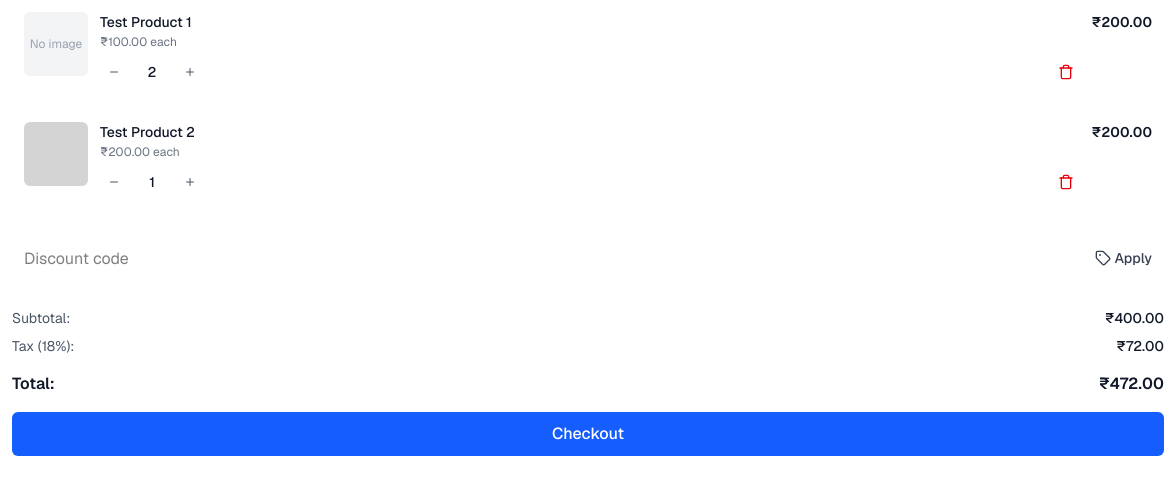
Test: ShoppingCart › Discount Code Application › should display error message for invalid discount code
Type "INVALID" into the field with placeholder "Discount code" at {"x": 543, "y": 258}, box top-left (12, 240), bottom-right (1074, 276)
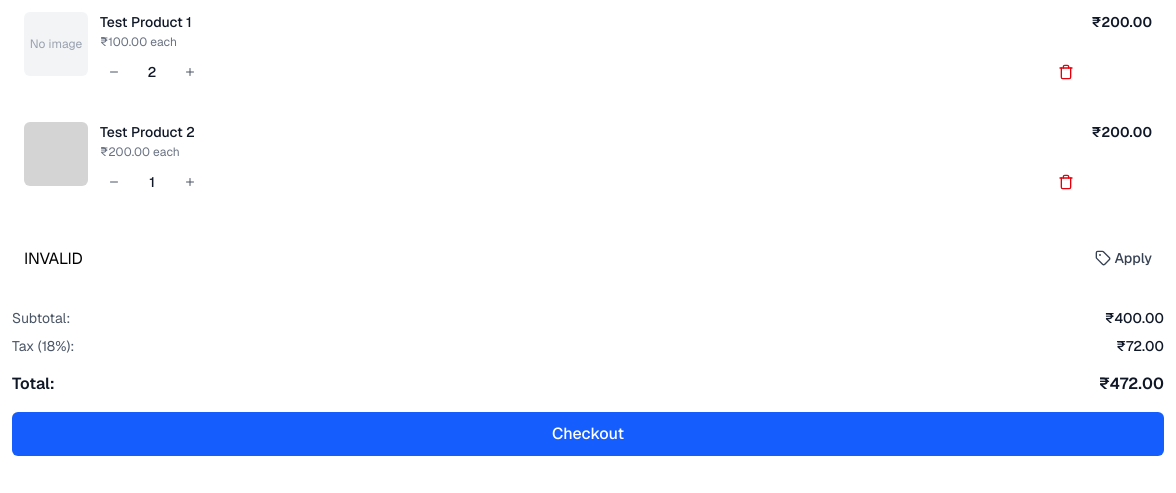
Click the button with aria-label "Apply discount code" at {"x": 1123, "y": 258}, box top-left (1082, 240), bottom-right (1164, 276)
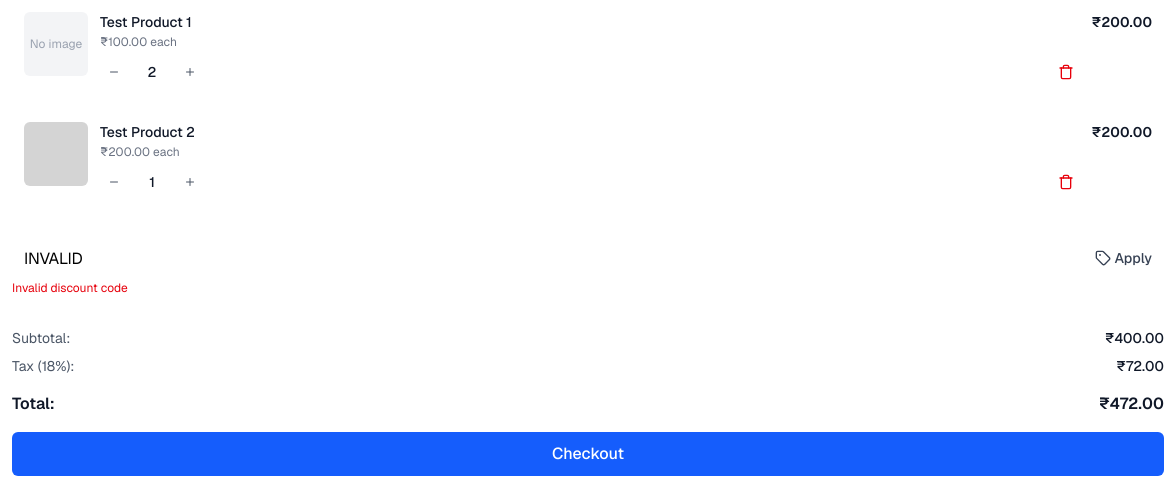
expect the text "Invalid discount code" is shown: met, box top-left (12, 280), bottom-right (128, 296)
